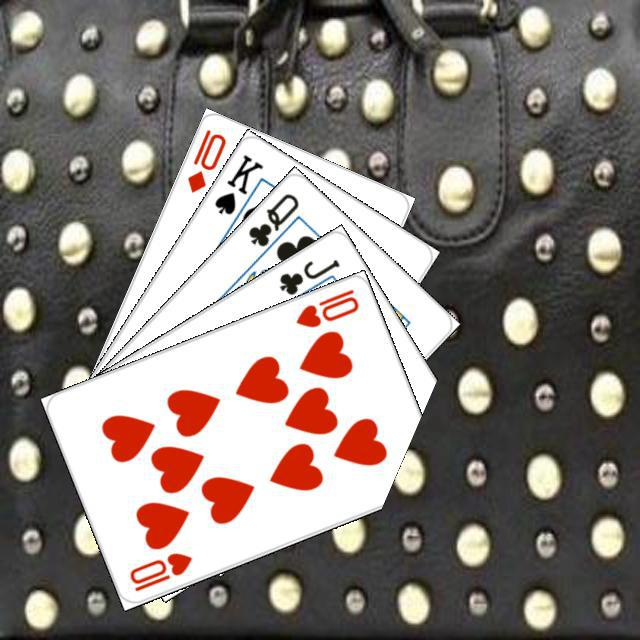10d: (182, 124, 228, 195)
10h: (124, 547, 194, 594), (290, 284, 361, 330)
Jc: (274, 254, 342, 297)
Ks: (209, 149, 265, 217)
Qc: (243, 188, 304, 261)
